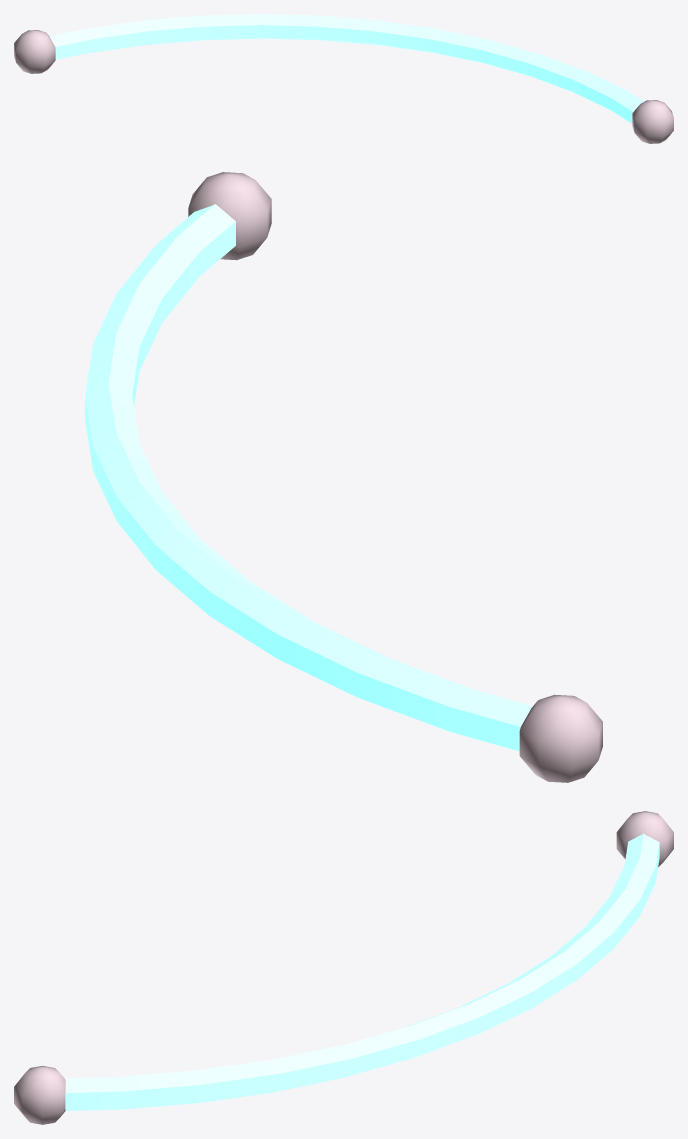
Rendered from neon_strip_curve.glb.
3 renders of one model, top to bottom at view 1: azimuth 30°, elevation 25°; view 2: azimuth 150°, elevation 25°; view 3: azimuth 270°, elevation 25°, orthographic. The views are drawn at different scales.
Visible parts, largest first — view 1: neon_strip_curve; view 2: neon_strip_curve; view 3: neon_strip_curve.
Part boxes in pixels (x1,y1,x2,y2): neon_strip_curve: (14, 14, 673, 143); neon_strip_curve: (85, 172, 602, 782); neon_strip_curve: (14, 811, 673, 1124).
Size of the model in its own units: 1.64 by 0.15 by 1.64.
